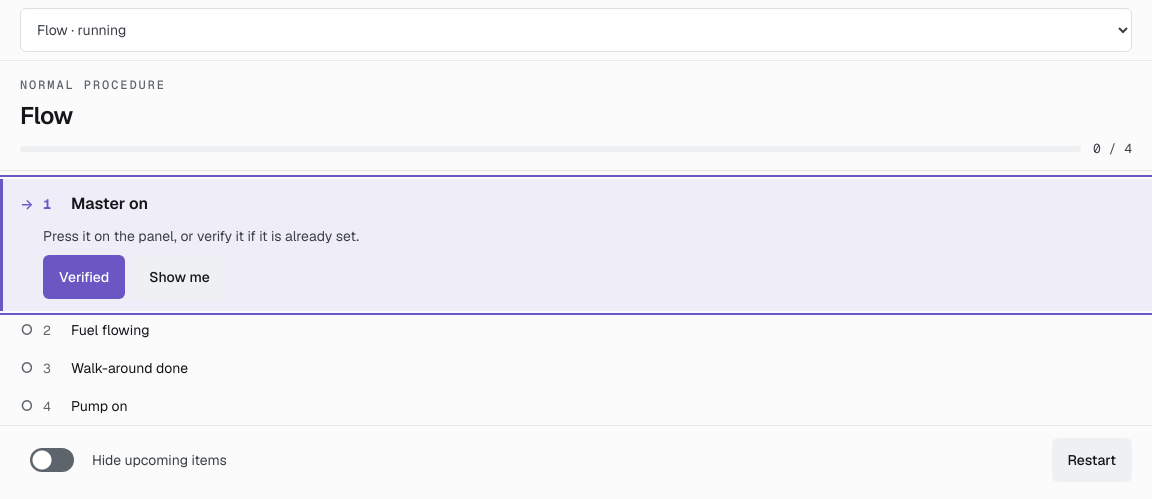
Test case: Practice recall › reveals the current item with Show me, once per item
Click the checkbox labelled "Hide upcoming items". click: (52,460)
box: top-left (20, 438), bottom-right (84, 482)
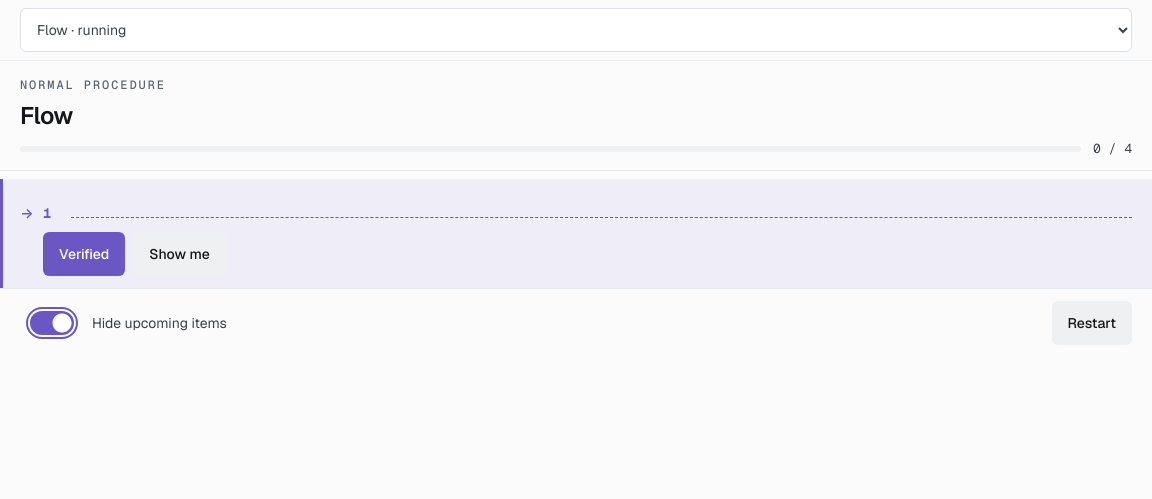
Click the button "Show me". click: (180,254)
box: top-left (133, 232), bottom-right (226, 276)
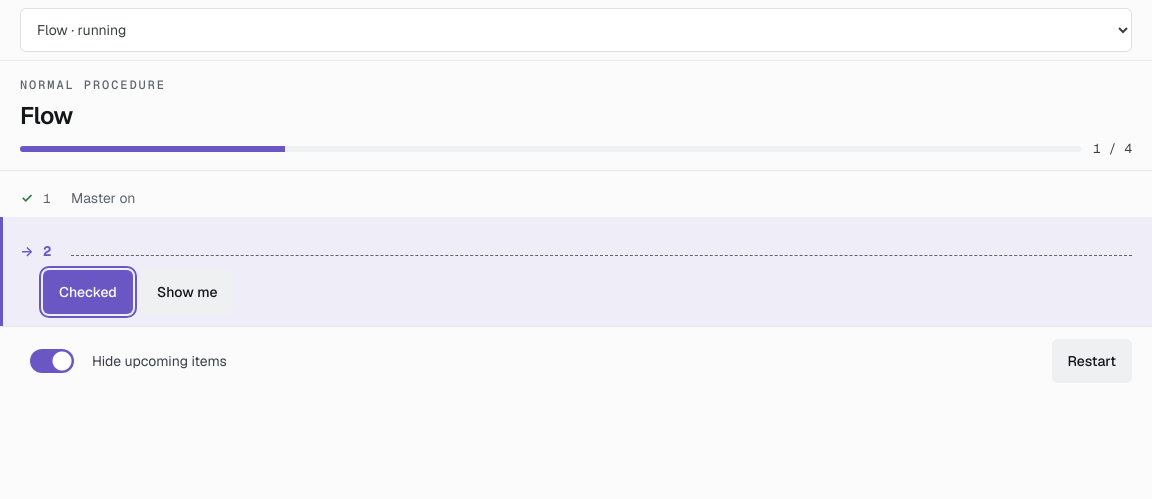
Expected: the text "Fuel flowing" is not shown
Expected: the text "Master on" is shown, top-left (71, 189), bottom-right (135, 207)
